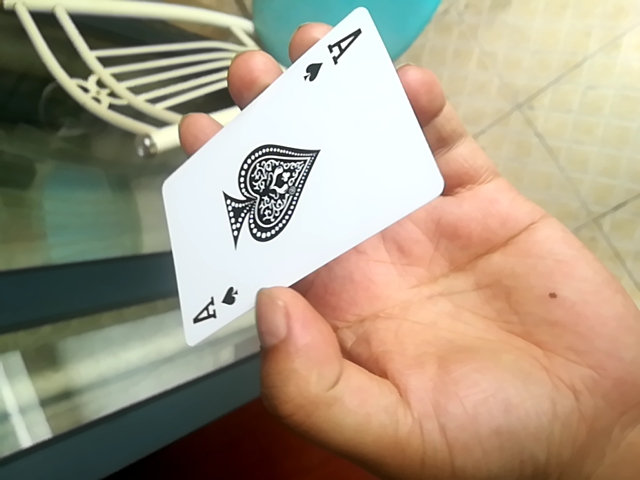ht a: (162, 7, 437, 351)
